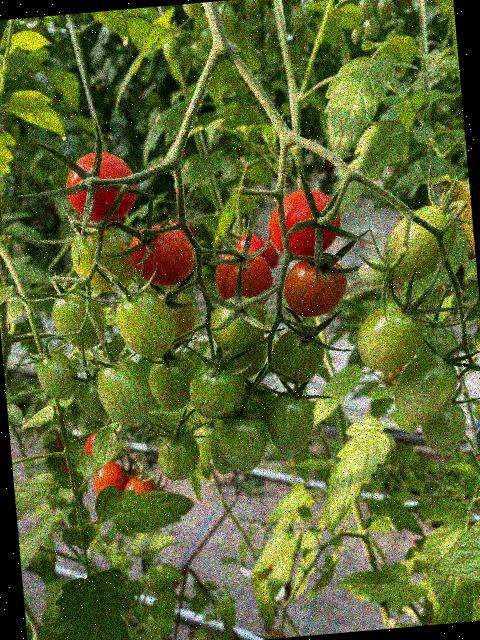l_fully_ripened: (62, 147, 140, 226), (265, 185, 343, 261), (127, 221, 197, 289), (212, 246, 276, 312)
l_green: (379, 202, 460, 285), (391, 349, 462, 427), (354, 299, 427, 373), (114, 287, 179, 362), (67, 225, 135, 295), (95, 354, 154, 430), (185, 355, 247, 420), (206, 292, 268, 354), (50, 285, 108, 351), (264, 389, 318, 459), (216, 408, 270, 475), (268, 324, 326, 386), (147, 350, 200, 411), (417, 398, 469, 455), (216, 332, 271, 381), (35, 346, 80, 401), (156, 431, 202, 482), (234, 381, 278, 429), (414, 324, 457, 368), (75, 375, 109, 424), (206, 417, 234, 475), (356, 256, 391, 287)
l_half_ripened: (280, 252, 349, 319), (156, 288, 198, 348)
